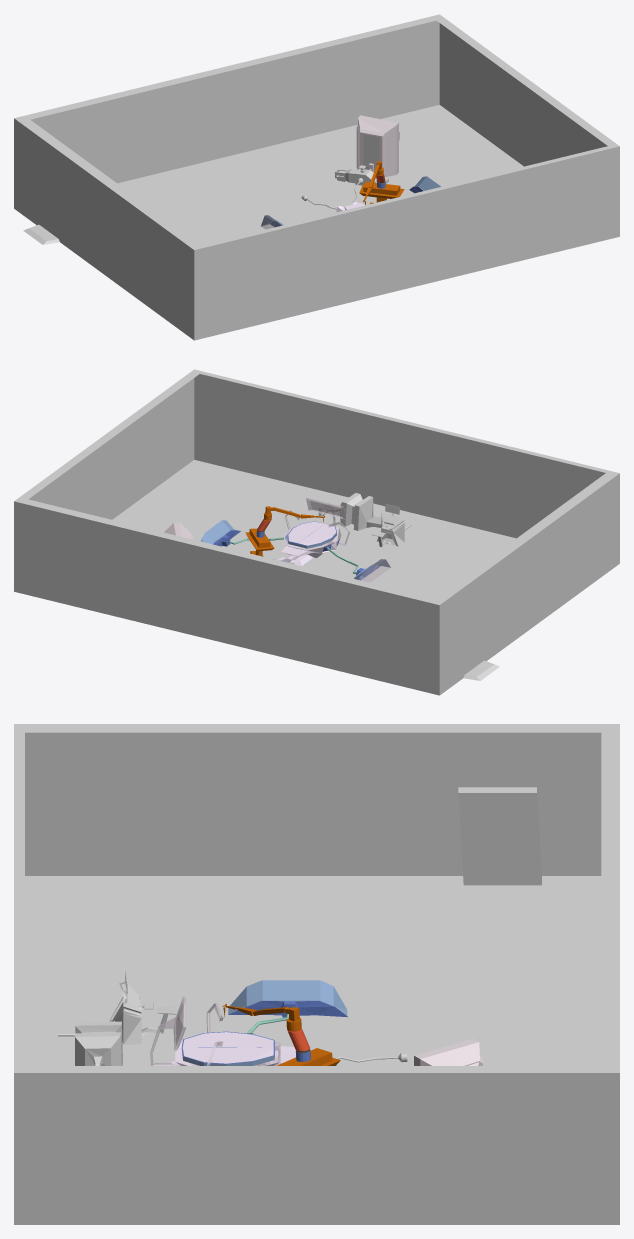
File: lab.dae
The picture shows the model from 3 angles, top to bottom: view 1: azimuth 30°, elevation 25°; view 2: azimuth 150°, elevation 25°; view 3: azimuth 270°, elevation 25°; orthographic projection. The views are drawn at different scales.
Parts seen in each view (by area): view 1: wall, machine2, machine, bed, macine_power; view 2: wall, bed, Cube, machine; view 3: wall, bed, Cube, machine, machine2.
Boxes of the visible parts, x1,y1,x2,y2 form: wall: (14,14,619,340); machine2: (356,115,399,176); machine: (359,161,404,204); bed: (260,176,440,229); macine_power: (334,165,388,185); wall: (14,369,619,695); bed: (201,497,390,582); Cube: (318,493,411,546); machine: (245,506,324,556); wall: (14,724,619,1224); bed: (149,980,347,1065); Cube: (58,970,175,1065); machine: (222,1003,340,1065); machine2: (414,1038,482,1065).
Size of the model in its own units: 37.67 by 26.64 by 7.54.
